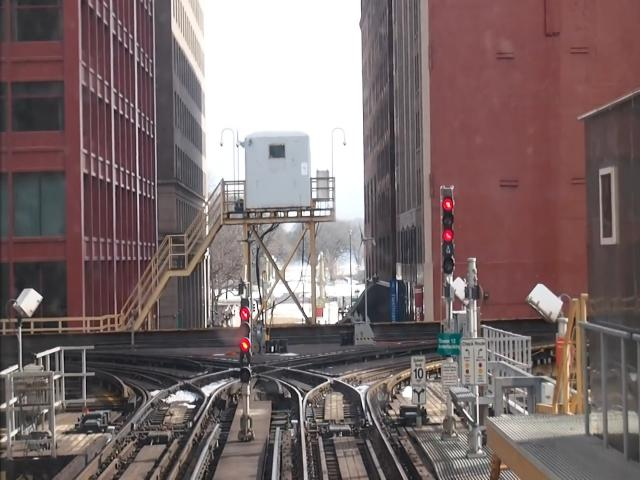signal light: (440, 185, 458, 280), (240, 297, 255, 387)
